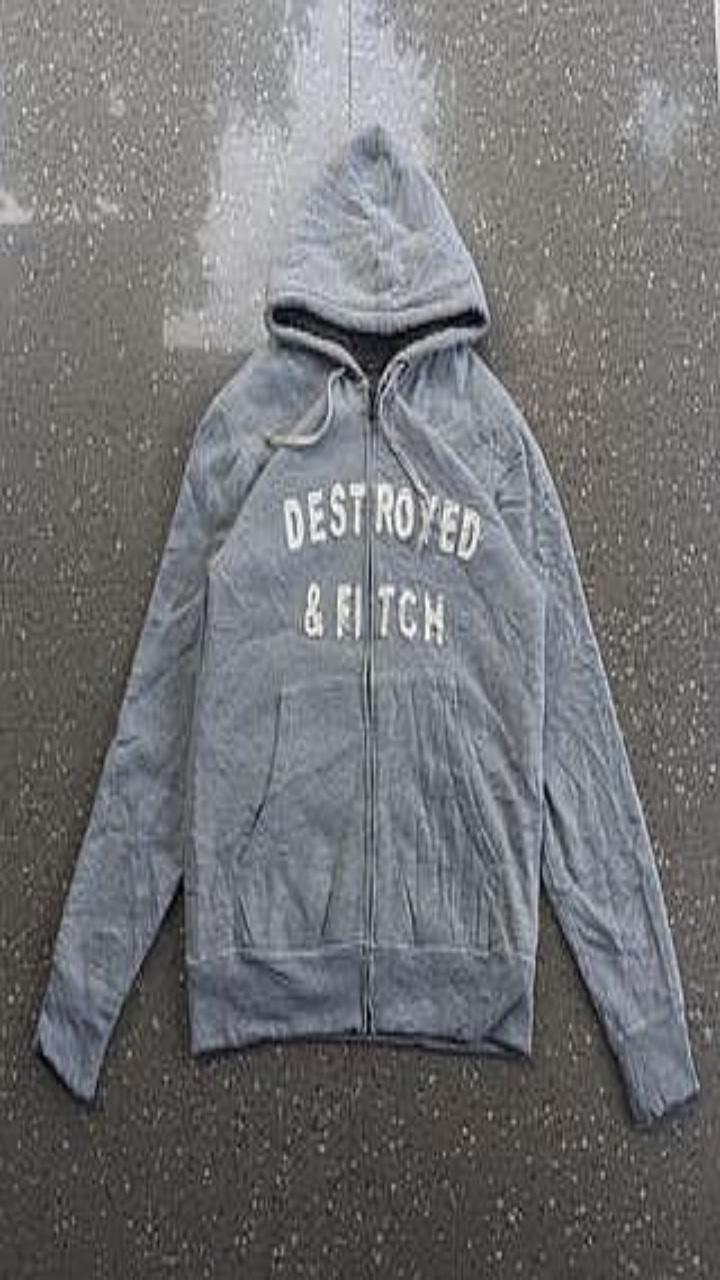Hoodie: (33, 124, 698, 1123)
